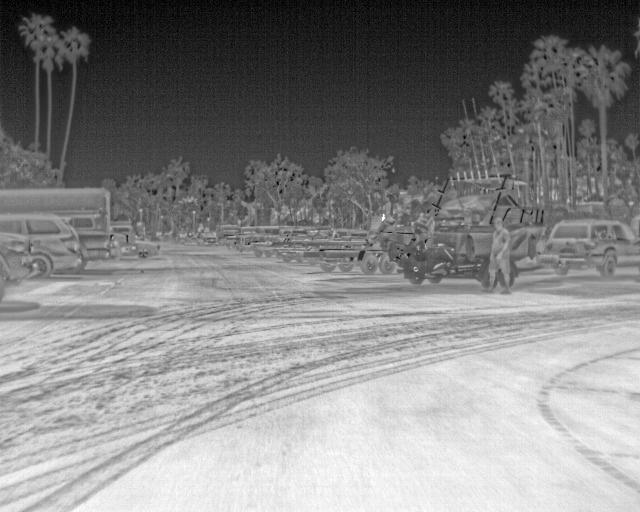bicycle: (1, 187, 113, 264), (534, 218, 639, 279), (0, 214, 81, 277), (0, 229, 32, 296), (129, 241, 161, 260)
empty: (483, 216, 512, 296)
